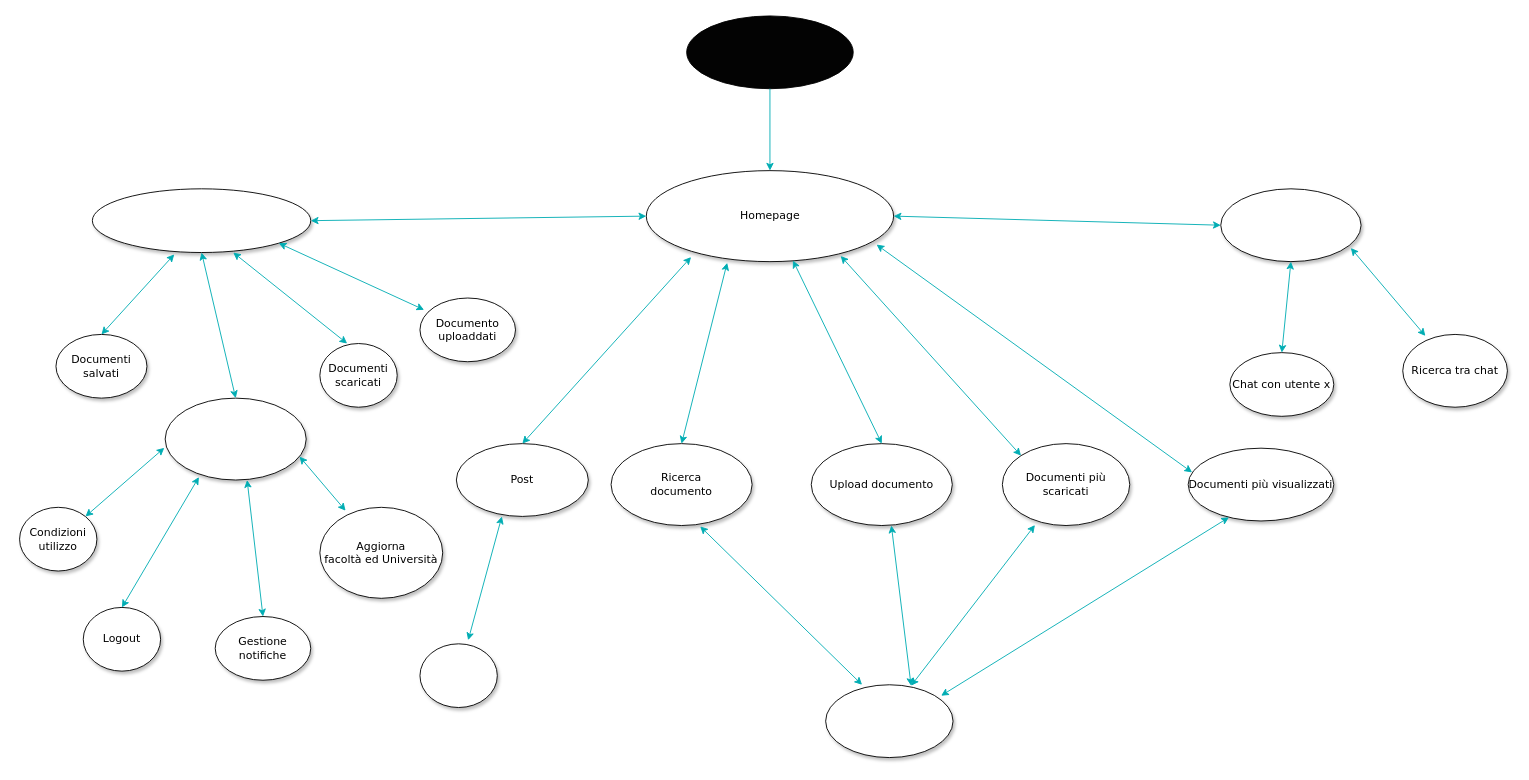
This 1529x780 diagram has some shape labels left out. The centre of each missing label's shape, as x and y in pixels:
"Area Login" belongs at (202,221).
"Chat" belongs at (1291,226).
"Crea nuovo post" belongs at (459,676).
"Creator" belongs at (769,52).
"Documento" belongs at (890,722).
"Impostazioni" belongs at (236,440).
